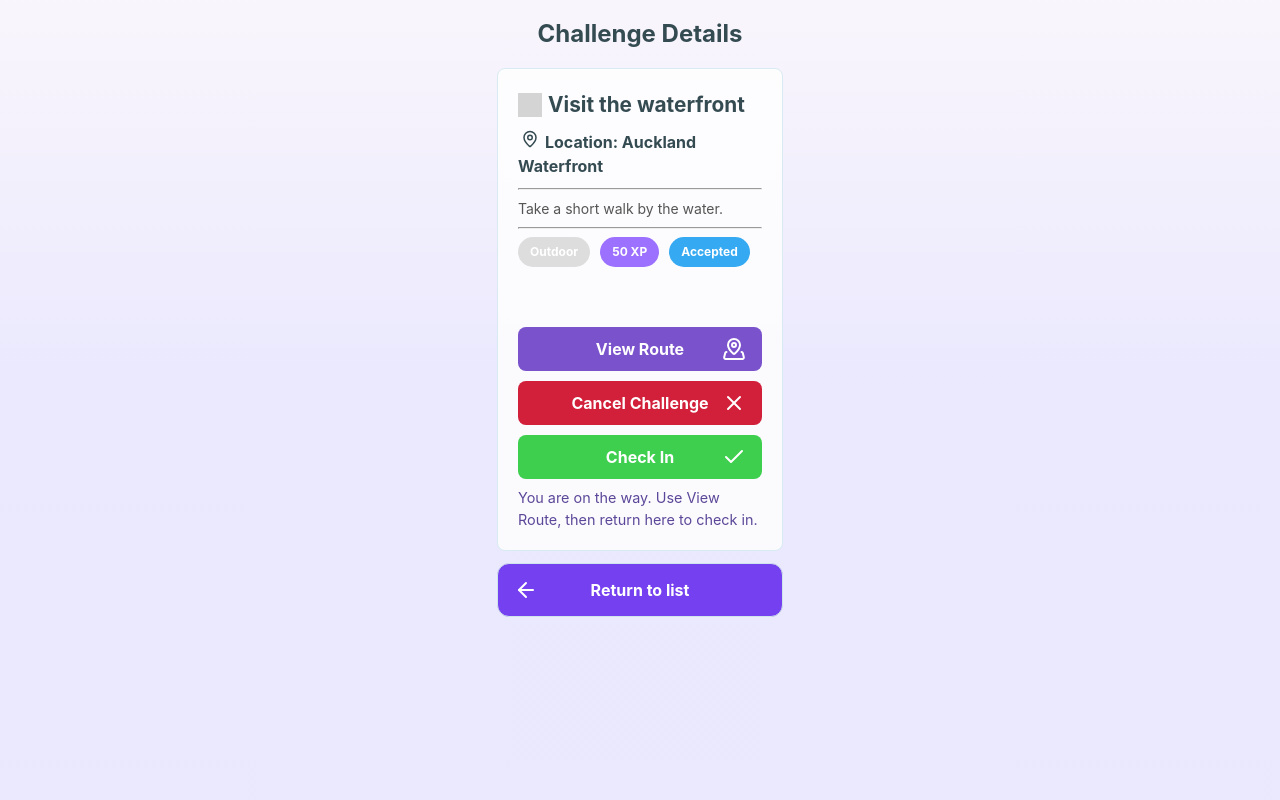
it: ChallengeDetailView › API/service request handling › shows a loading state while waiting for browser location access
The image size is (1280, 800).
Click the button "Check In". click: (640, 457)
box: [518,435,762,479]
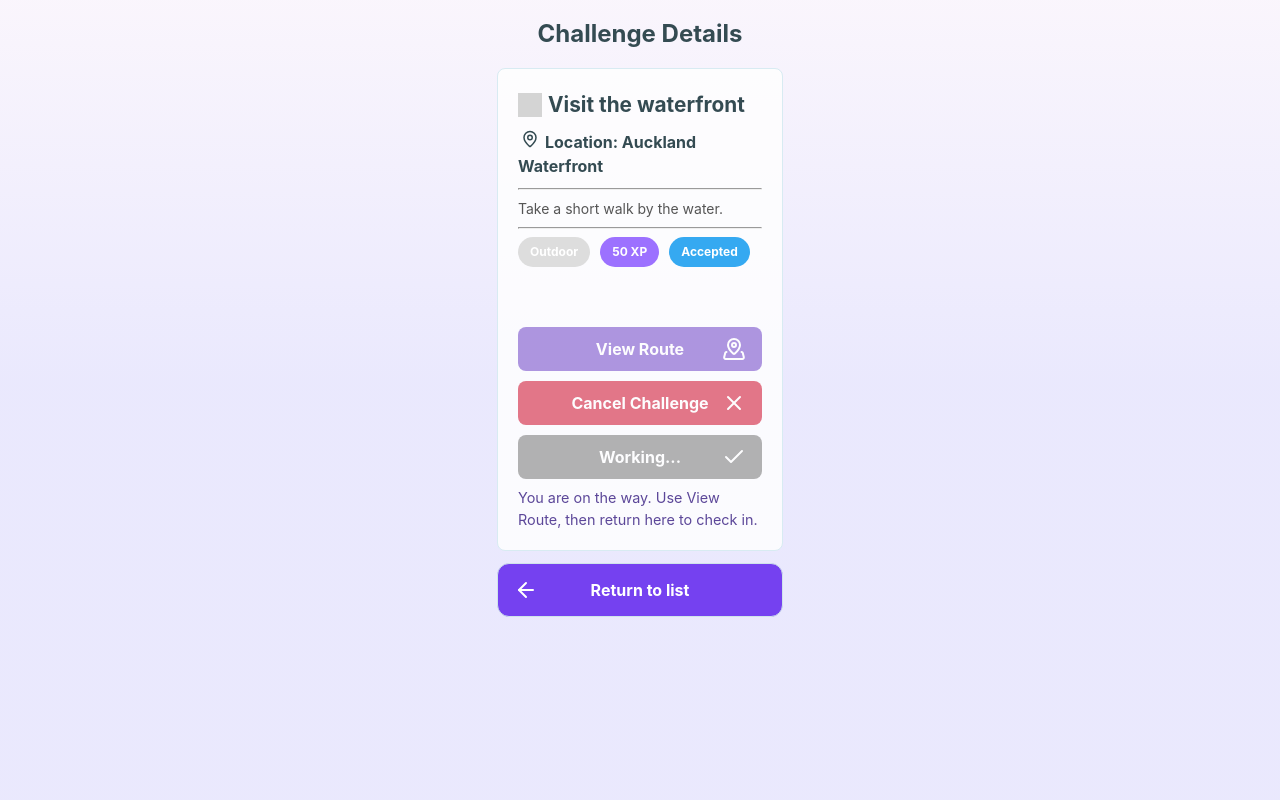
expect the button "Working..." is disabled: met, box [518,435,762,479]
